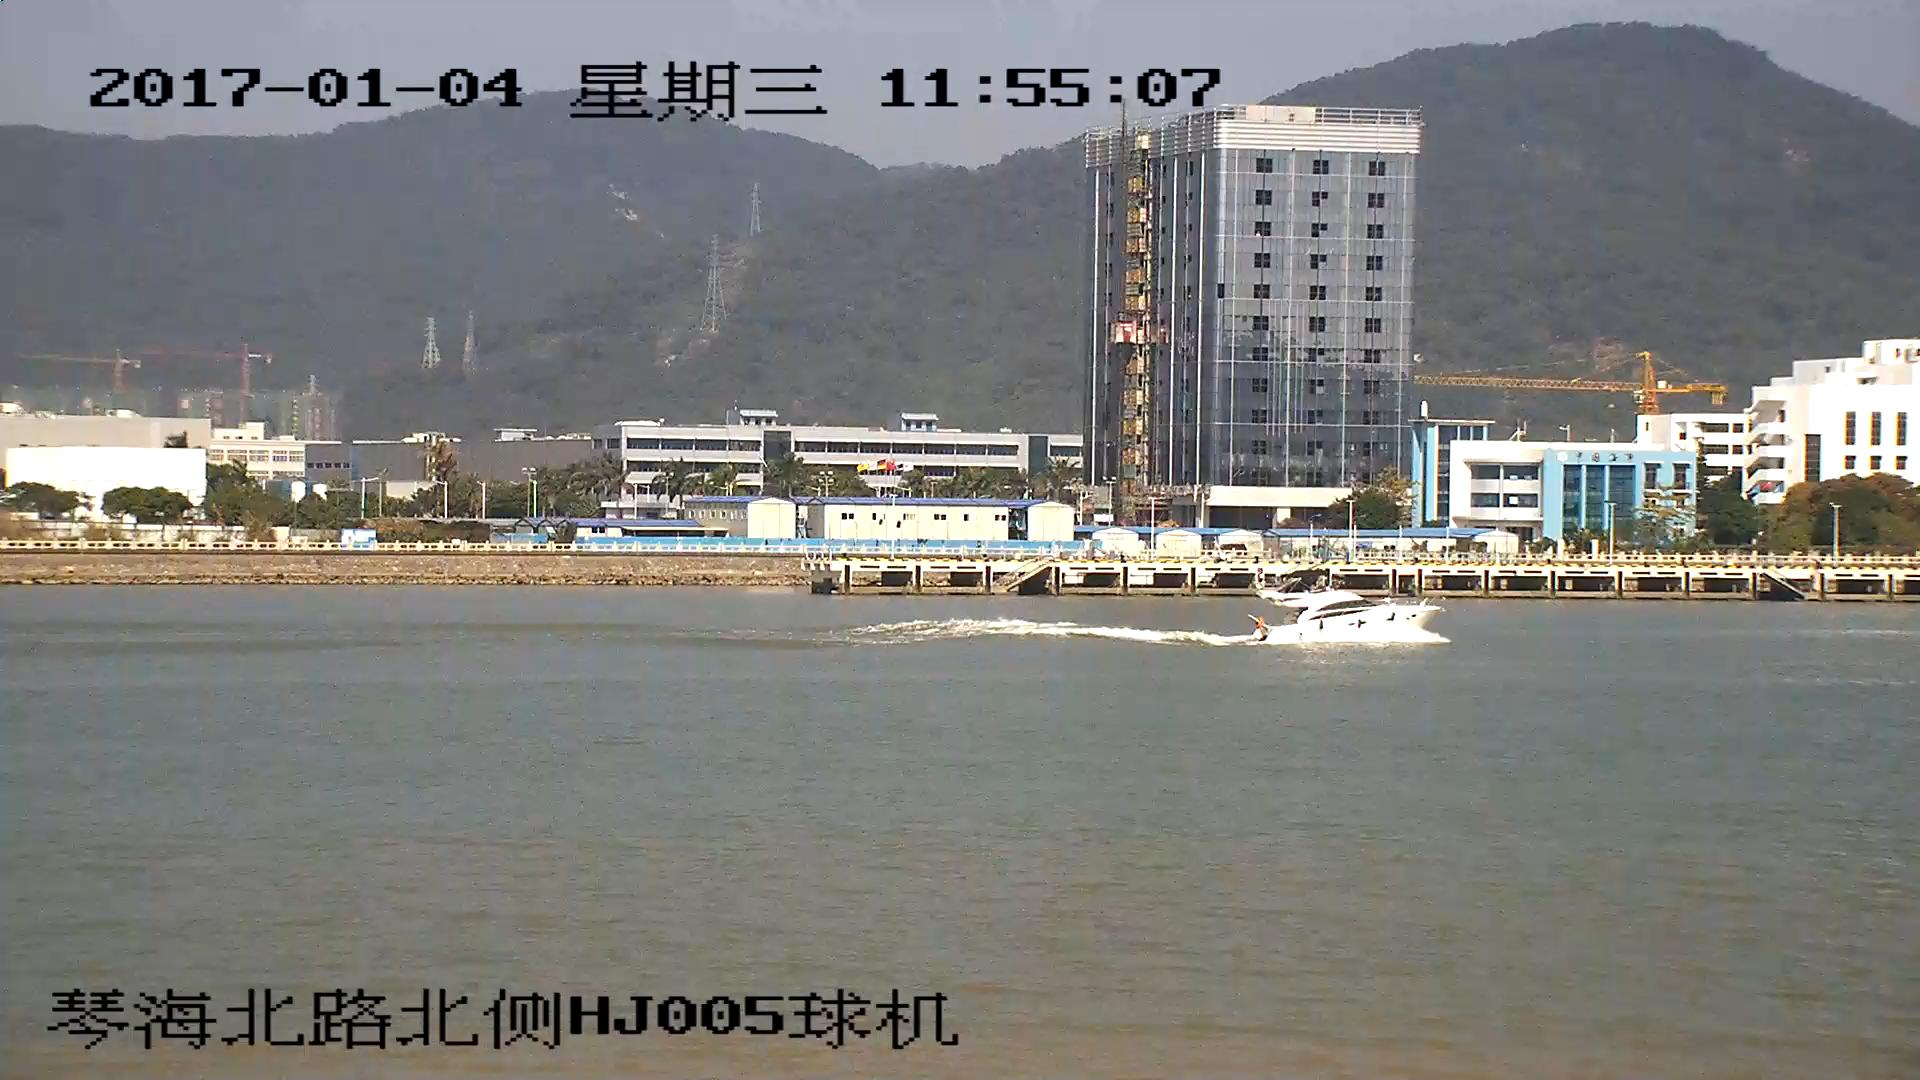passenger ship: (1252, 572, 1444, 642)
